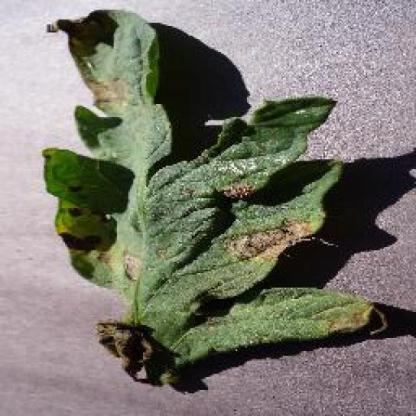Tomato_Blight: (40, 10, 382, 372)
